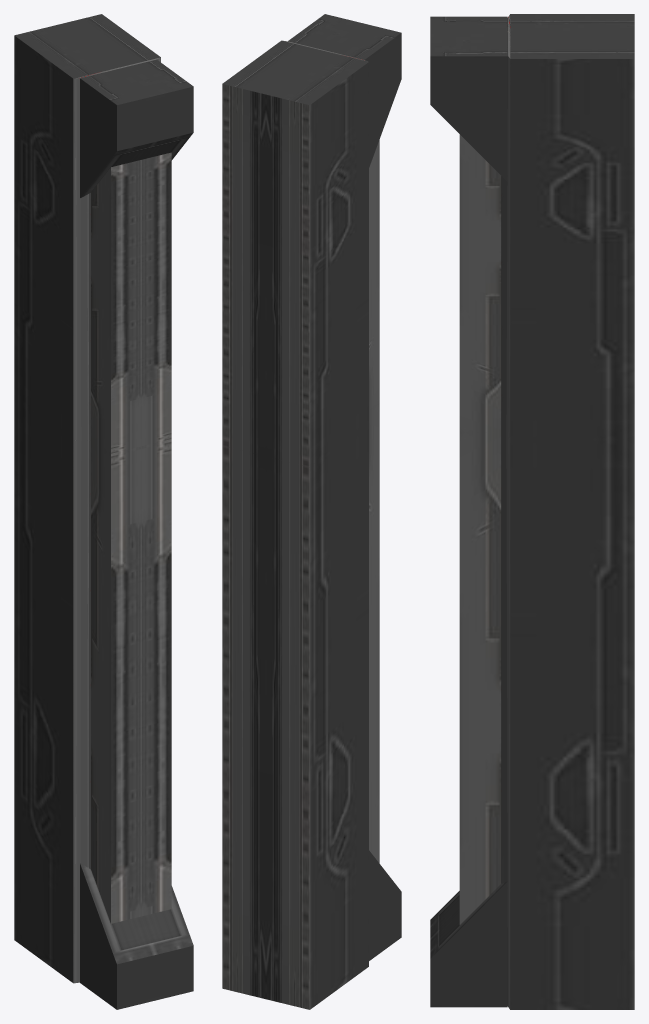
File: sf_column.glb
3 views of the same model, side by side, from view 1: azimuth 30°, elevation 25°; view 2: azimuth 150°, elevation 25°; view 3: azimuth 270°, elevation 25° (orthographic). The views are drawn at different scales.
Visible parts, largest first — view 1: Column_Simple; view 2: Column_Simple; view 3: Column_Simple.
Boxes of the visible parts, x1=… form: Column_Simple: x1=14, y1=14, x2=193, y2=1009; Column_Simple: x1=222, y1=14, x2=401, y2=1009; Column_Simple: x1=430, y1=14, x2=634, y2=1009.
Size of the model in its own units: 0.5068 by 5 by 0.9749.
Materials: 2 (2 with a texture image).
